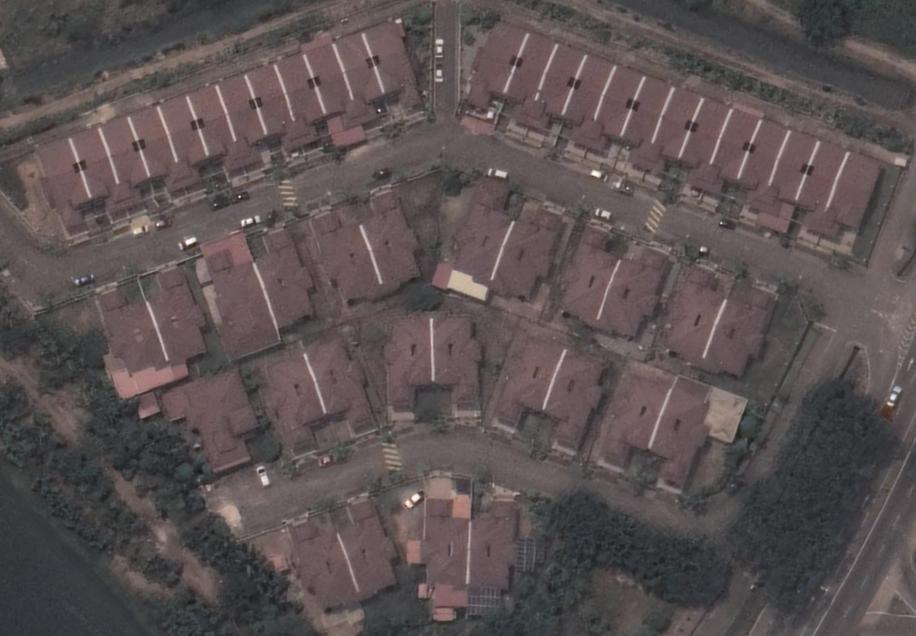building: (649, 372, 751, 494), (154, 364, 264, 477), (196, 230, 281, 364), (429, 178, 516, 304), (589, 355, 678, 469), (482, 321, 569, 434), (91, 286, 174, 404), (408, 474, 473, 624), (251, 340, 327, 466), (279, 511, 364, 616), (301, 326, 380, 437), (699, 272, 780, 379), (305, 204, 385, 311), (466, 497, 536, 619), (142, 262, 209, 383), (655, 261, 728, 370), (252, 223, 319, 333), (594, 244, 673, 337), (305, 40, 371, 151), (544, 346, 608, 459), (336, 491, 401, 602), (758, 123, 821, 233), (493, 206, 566, 299), (815, 147, 886, 241), (558, 224, 621, 329), (380, 307, 435, 426), (361, 188, 424, 289), (36, 135, 95, 242), (700, 103, 764, 201), (465, 17, 529, 114), (364, 15, 426, 115), (430, 311, 484, 422), (585, 61, 646, 158), (796, 133, 854, 234), (68, 125, 129, 221), (619, 72, 677, 172), (528, 40, 589, 135), (641, 84, 705, 174), (737, 115, 793, 216), (506, 30, 560, 134), (246, 64, 306, 156), (98, 114, 152, 216), (218, 71, 271, 174), (187, 81, 245, 175), (159, 91, 211, 195), (129, 102, 187, 195), (680, 93, 735, 191), (274, 50, 326, 149), (563, 52, 616, 148), (334, 30, 386, 126)
